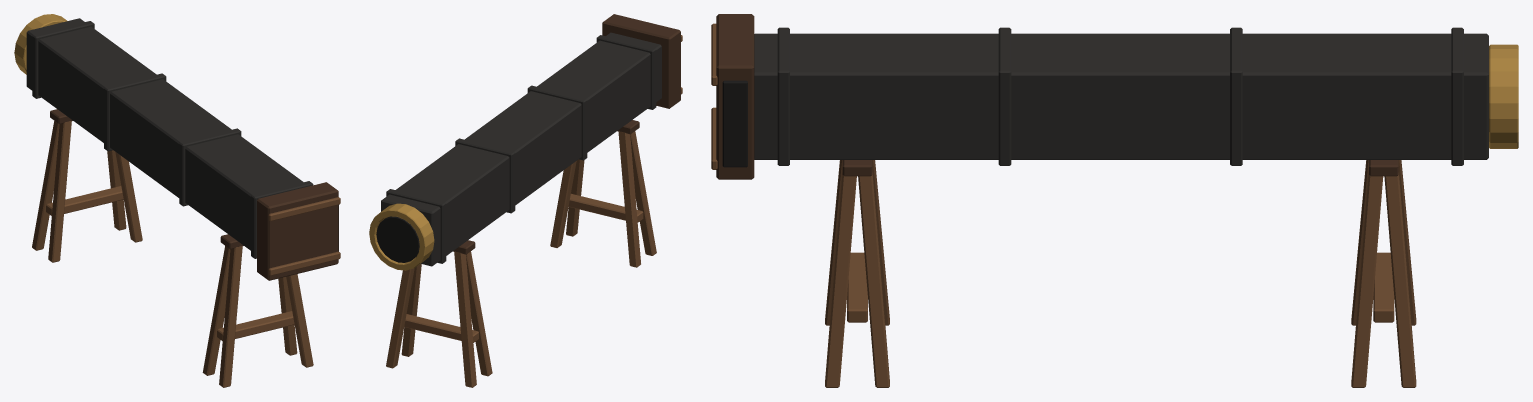
Rendered from horizontal_tube.glb.
The picture shows the model from 3 angles, left to right: view 1: azimuth 30°, elevation 25°; view 2: azimuth 150°, elevation 25°; view 3: azimuth 270°, elevation 25°; orthographic projection. The views are drawn at different scales.
Parts seen in each view (by area): view 1: horizontal_tube; view 2: horizontal_tube; view 3: horizontal_tube.
Boxes of the visible parts, <box> form: horizontal_tube: <box>14,14,340,387</box>; horizontal_tube: <box>369,14,682,387</box>; horizontal_tube: <box>711,14,1518,387</box>.
Bounding box in the file's own units: 0.7678 × 1.65 × 3.83.
